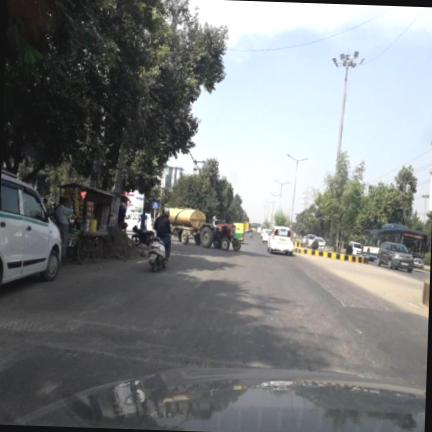Road: (0, 237, 428, 422)
